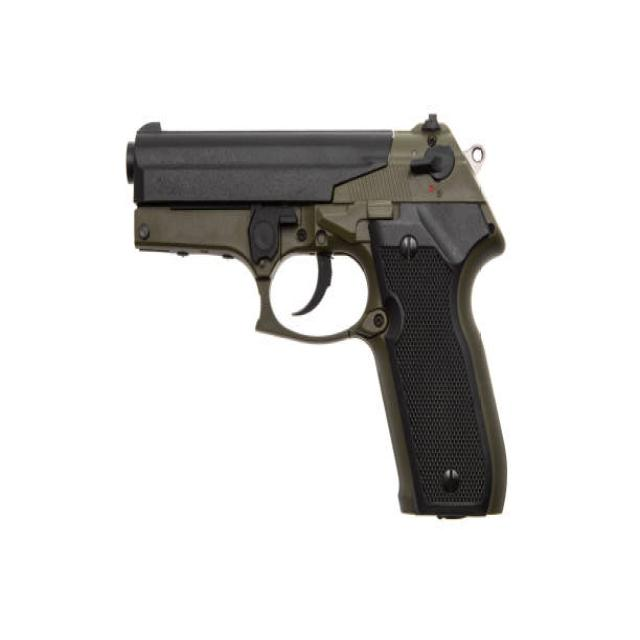pistol: (122, 110, 517, 527)
